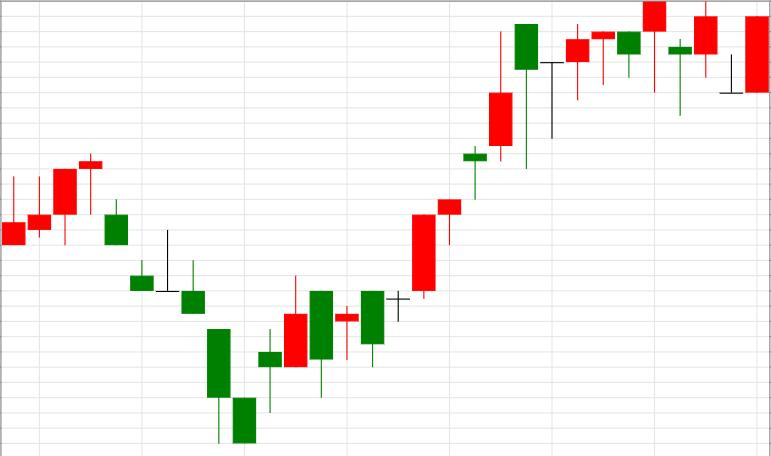hanging_man_fall: (411, 24, 537, 298)
